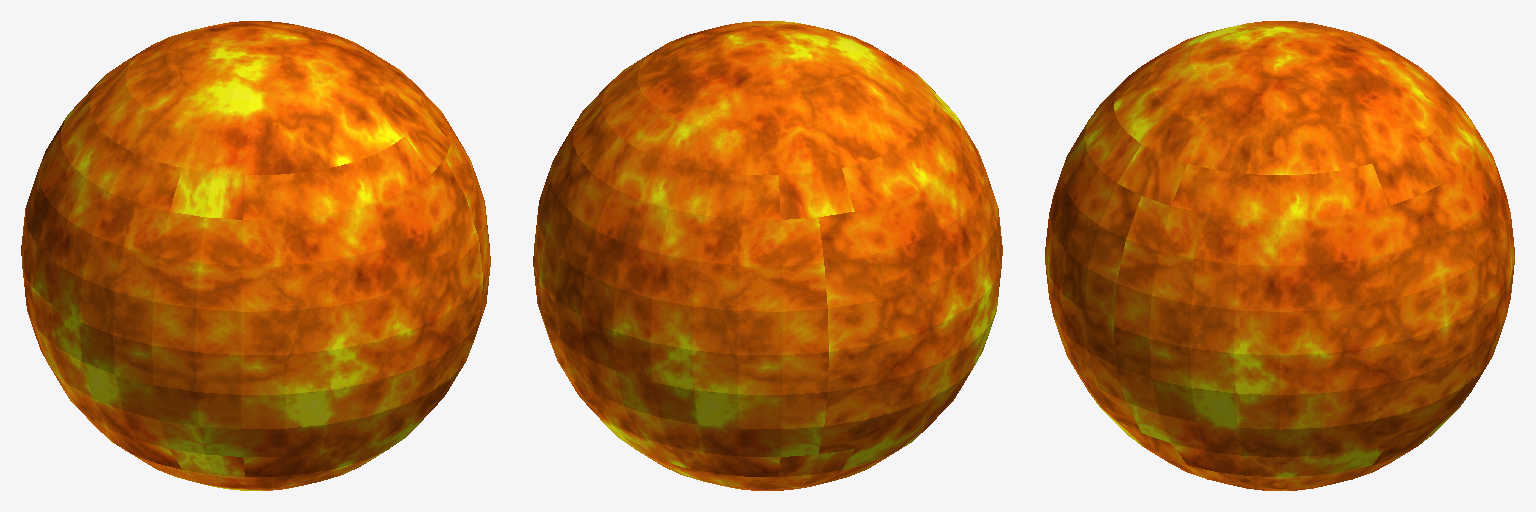
The picture shows the model from 3 angles: view 1: azimuth 30°, elevation 25°; view 2: azimuth 150°, elevation 25°; view 3: azimuth 270°, elevation 25°; orthographic projection.
Parts seen in each view (by area): view 1: fire; view 2: fire; view 3: fire.
Boxes of the visible parts, x1=… form: fire: x1=21, y1=21, x2=490, y2=490; fire: x1=533, y1=21, x2=1002, y2=490; fire: x1=1045, y1=21, x2=1514, y2=490.
Bounding box in the file's own units: 2 × 2 × 2.
Materials: 1 (1 with a texture image).